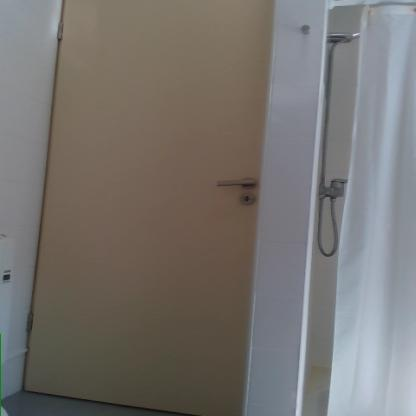closed: (35, 3, 270, 405)
